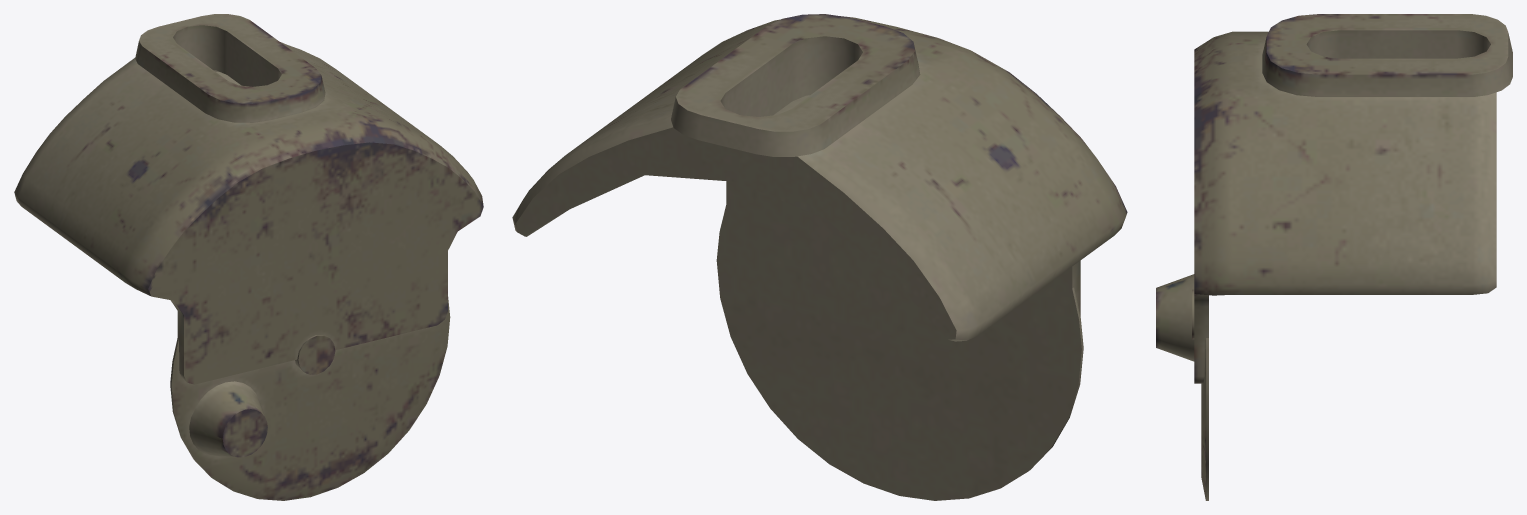
File: Turret_01.glb
The picture shows the model from 3 angles, left to right: view 1: azimuth 30°, elevation 25°; view 2: azimuth 150°, elevation 25°; view 3: azimuth 270°, elevation 25°; orthographic projection. The views are drawn at different scales.
Parts seen in each view (by area): view 1: set_0_group_0; view 2: set_0_group_0; view 3: set_0_group_0.
Boxes of the visible parts, left/top/right/bottom form: set_0_group_0: left=14, top=14, right=483, bottom=500; set_0_group_0: left=512, top=14, right=1127, bottom=500; set_0_group_0: left=1156, top=14, right=1512, bottom=500.
Size of the model in its own units: 1.28 by 1.31 by 0.9678.
Materials: 1 (1 with a texture image).
